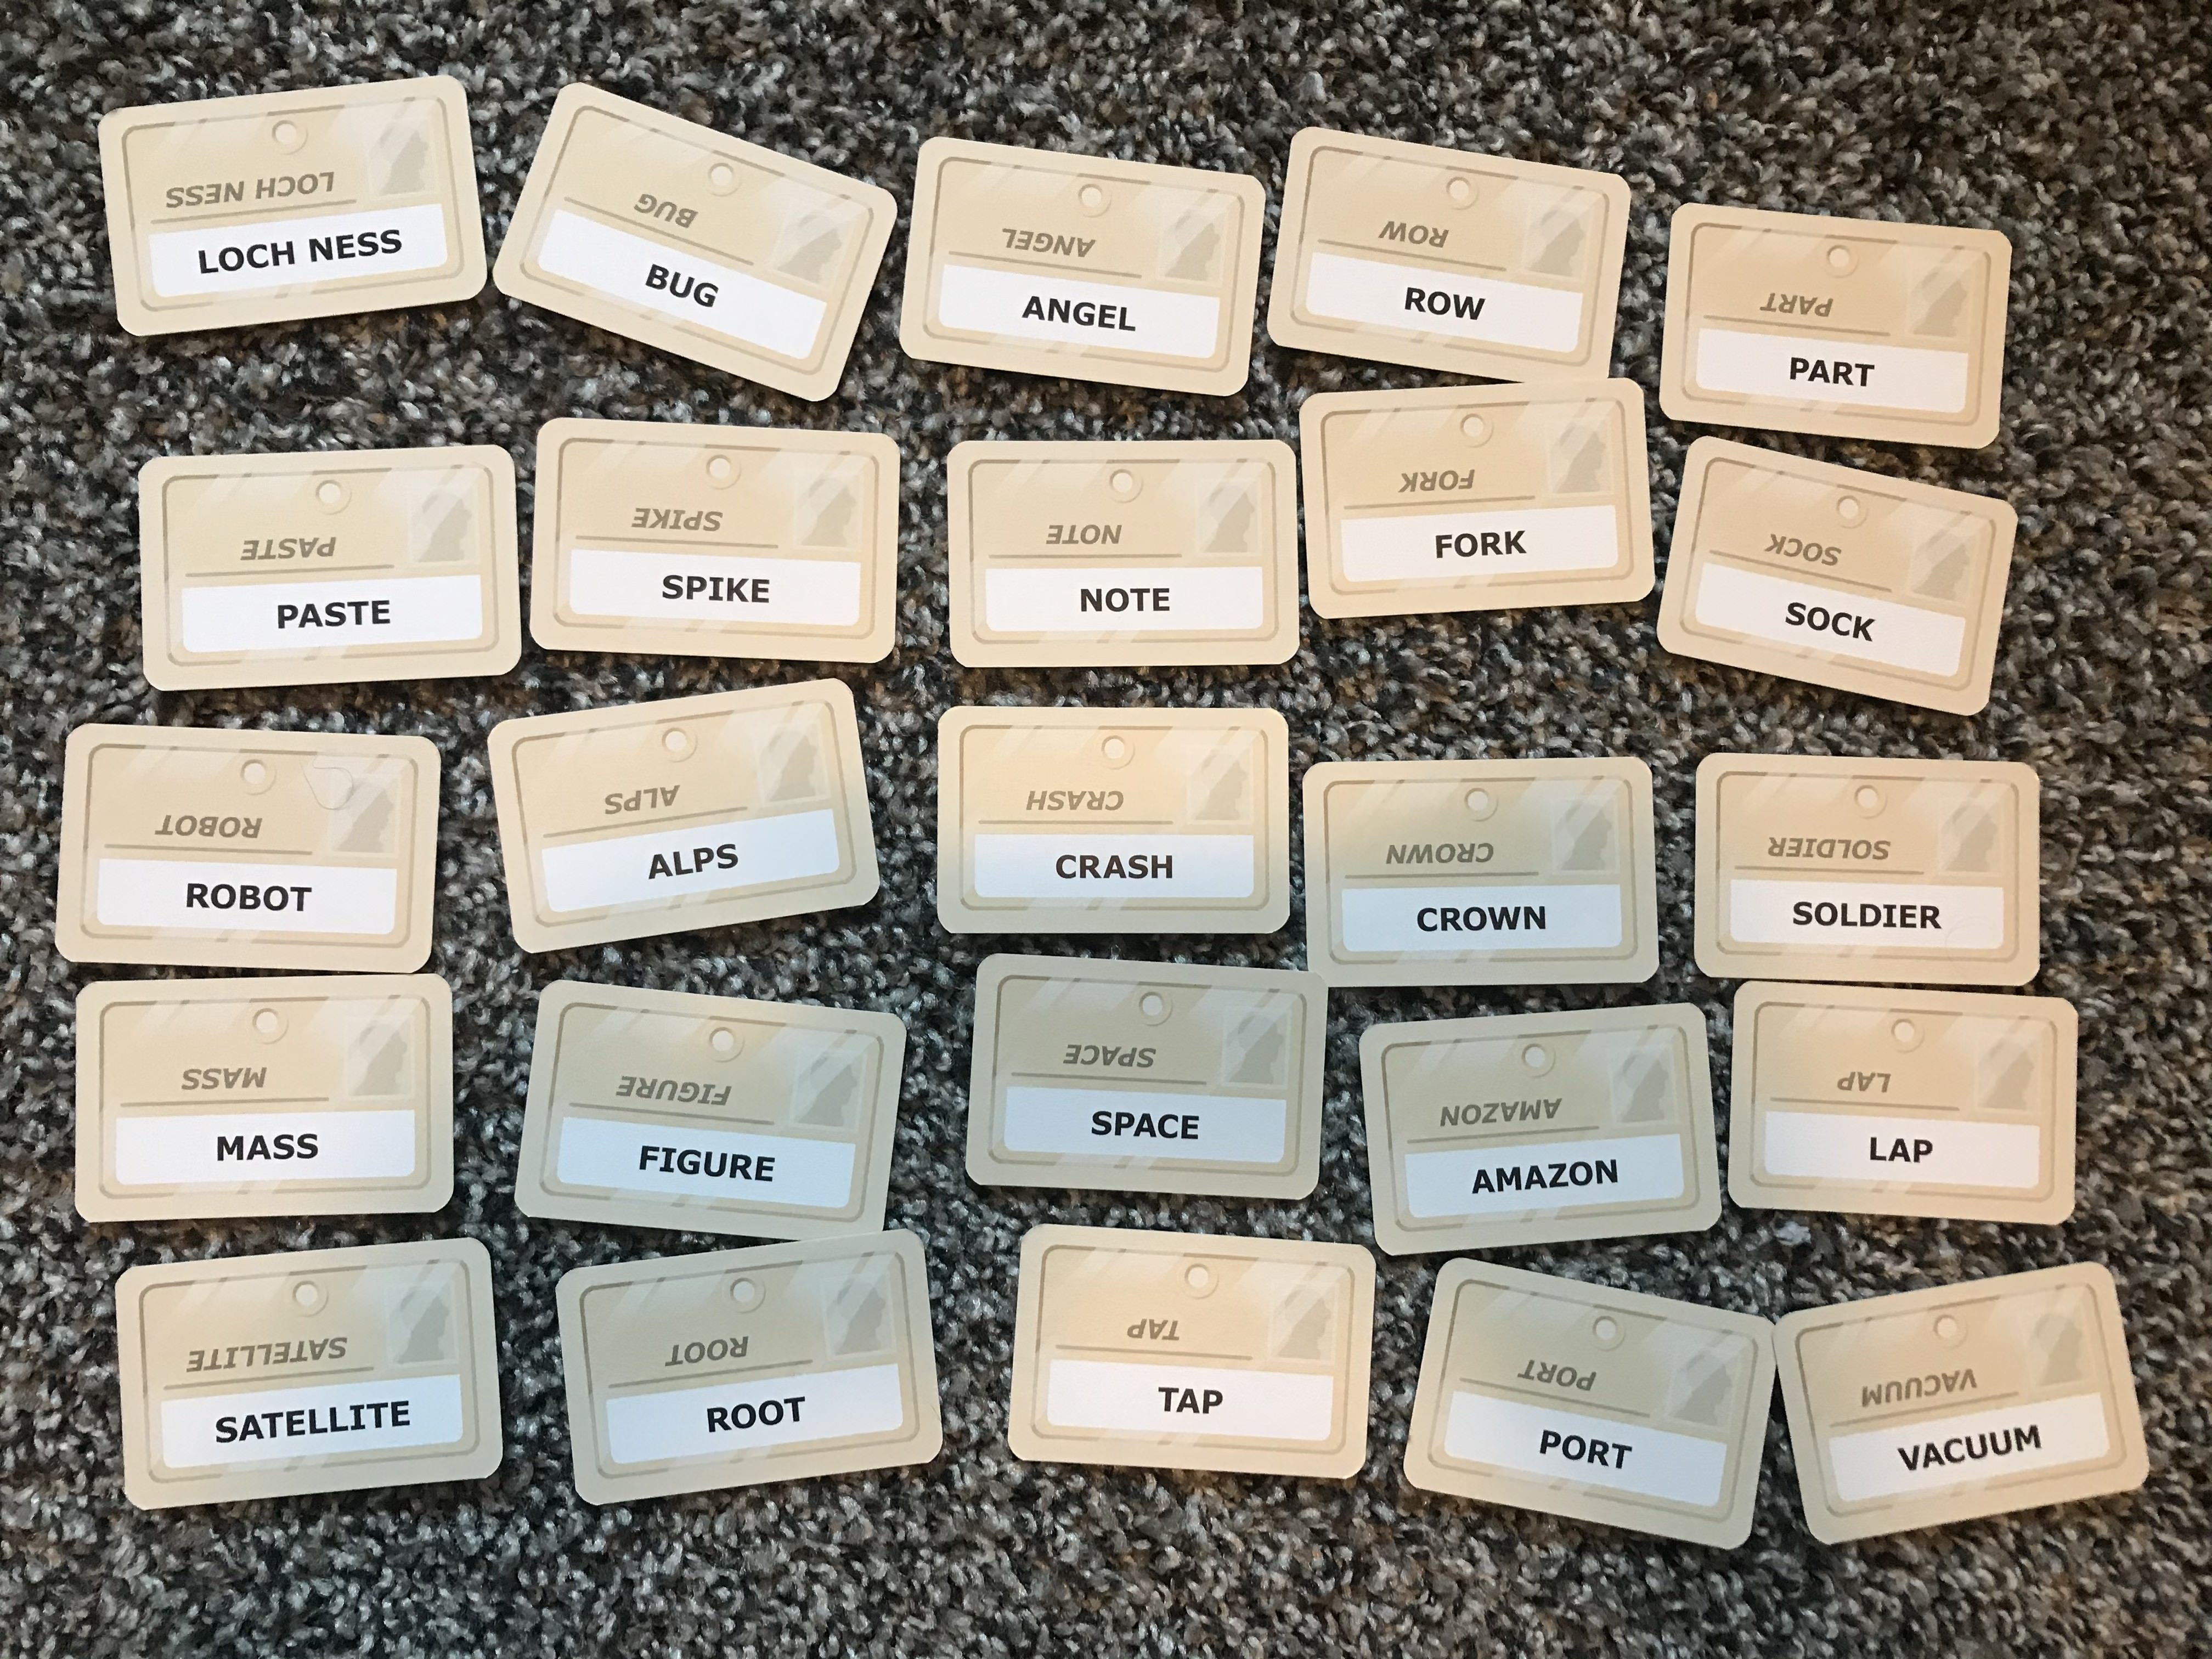A: (1465, 1159, 1501, 1208), (643, 840, 672, 896), (1885, 1127, 1914, 1176), (1099, 847, 1125, 899), (1804, 350, 1834, 396), (1129, 1103, 1158, 1148), (244, 1127, 272, 1175), (1522, 1159, 1552, 1202), (294, 594, 322, 638), (239, 1406, 263, 1453), (1921, 1439, 1949, 1476), (1177, 1380, 1200, 1422), (1019, 291, 1043, 329)
